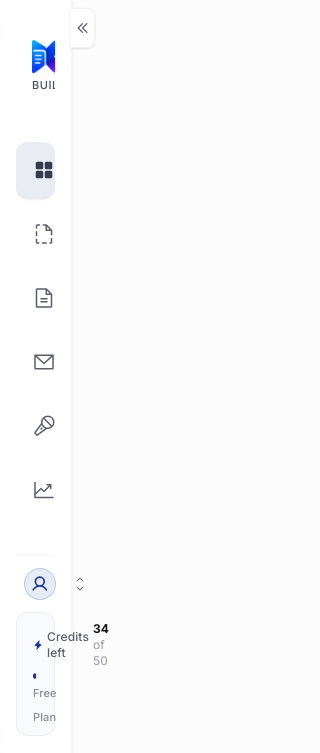
Scenario: Sidebar › keeps My Profile and Account behind the avatar, above the credit meter
Click the button named "account menu" at (36, 584), box [16, 564, 55, 604]
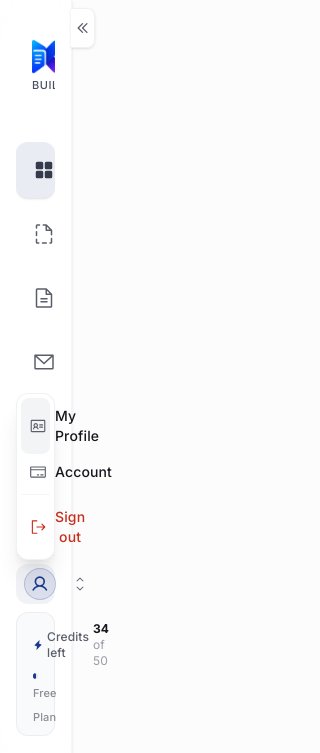
Expected: the menu item "Sign out" is shown, [21, 499, 50, 555]
